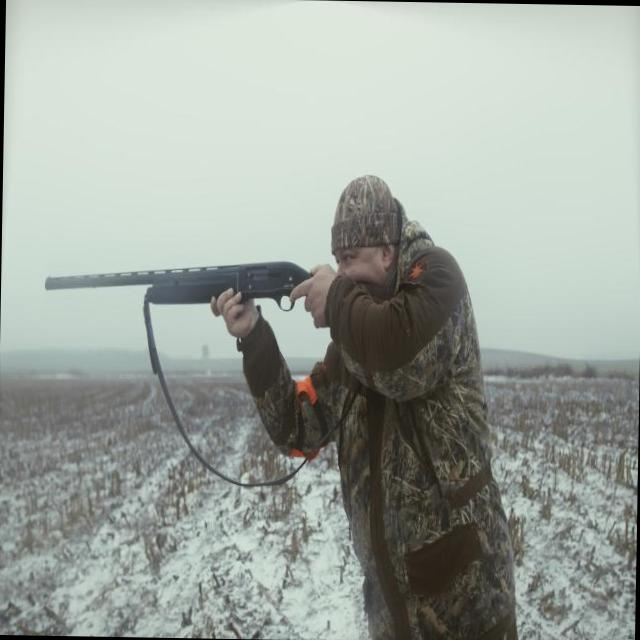ranger: (276, 107, 548, 627)
weapon: (15, 252, 318, 326)
